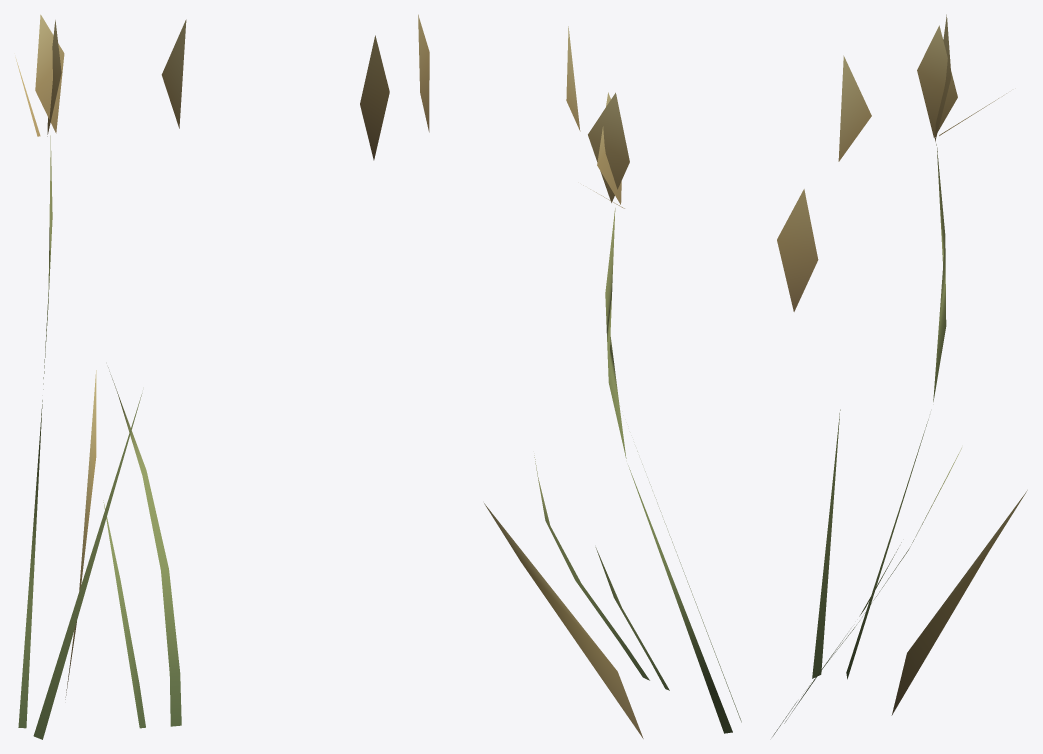
The model's file is FeatherGrassClump_LOD3.glb.
3 renders of one model, left to right at view 1: azimuth 30°, elevation 25°; view 2: azimuth 150°, elevation 25°; view 3: azimuth 270°, elevation 25°, orthographic. The views are drawn at different scales.
Parts seen in each view (by area): view 1: FeatherGrassClump_LOD3; view 2: FeatherGrassClump_LOD3; view 3: FeatherGrassClump_LOD3.
Part boxes in pixels (box(x1,y1,x2,y2)): FeatherGrassClump_LOD3: box(15, 14, 389, 739); FeatherGrassClump_LOD3: box(418, 14, 741, 738); FeatherGrassClump_LOD3: box(772, 14, 1027, 736).
Size of the model in its own units: 0.2838 by 0.5434 by 0.179.
